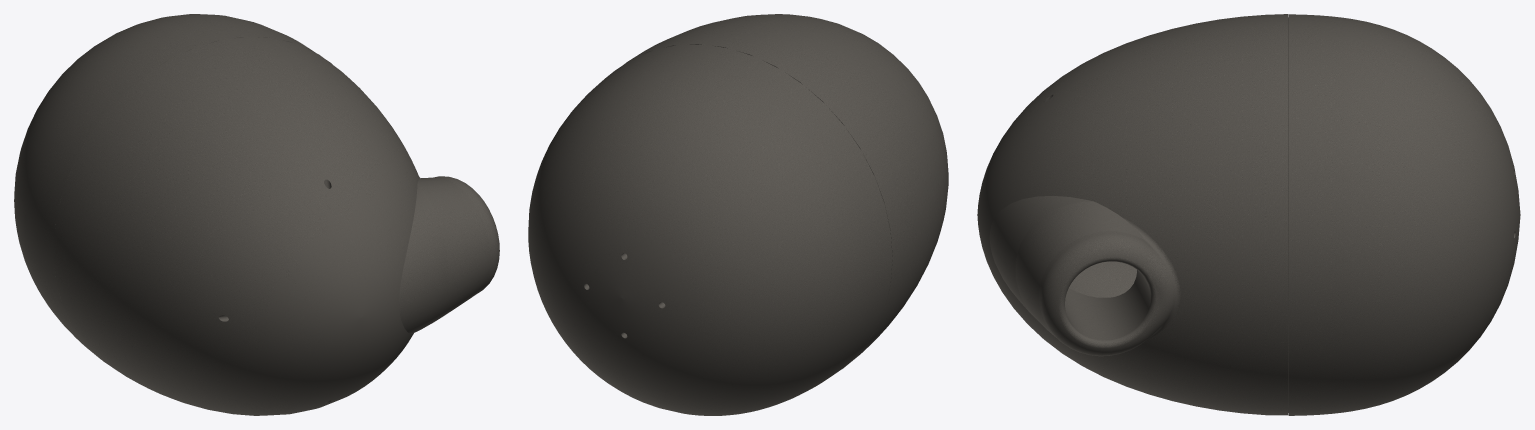
Rendered from nestegg[1].glb.
The picture shows the model from 3 angles, left to right: view 1: azimuth 30°, elevation 25°; view 2: azimuth 150°, elevation 25°; view 3: azimuth 270°, elevation 25°; orthographic projection. The views are drawn at different scales.
Visible parts, largest first — view 1: Asset3DLoadersceneRoot; view 2: Asset3DLoadersceneRoot; view 3: Asset3DLoadersceneRoot.
Part boxes in pixels (<box>): Asset3DLoadersceneRoot: <box>14,14,499,415</box>; Asset3DLoadersceneRoot: <box>528,14,948,415</box>; Asset3DLoadersceneRoot: <box>977,14,1520,415</box>.
Bounding box in the file's own units: 18.24 × 17.55 × 23.71.
1 material, 1 textured.
